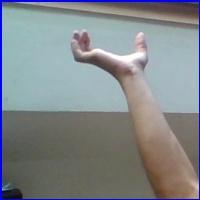space: (66, 24, 157, 88)
